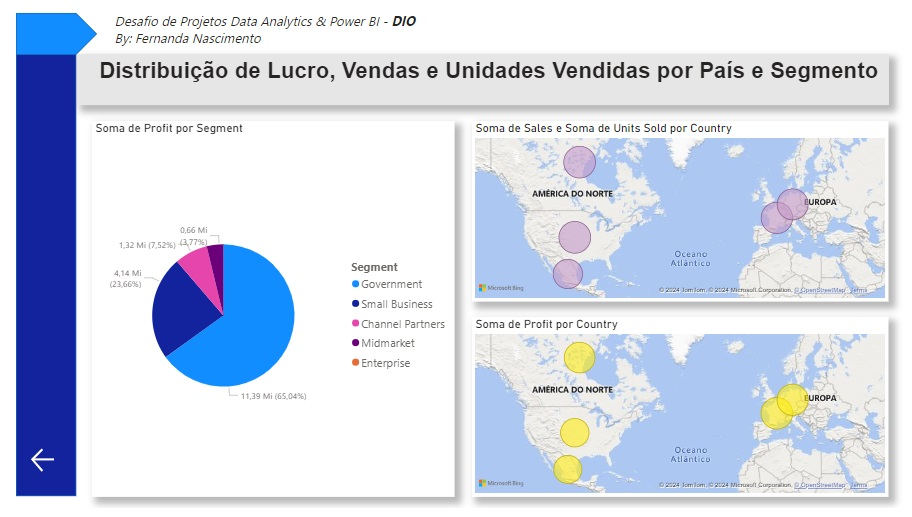

Layout of this report page (visuals, bound fields, positions):
{"tool":"powerbi","page":{"name":"Página 3","canvas":[1280,720],"ordinal":2},"visuals":[{"type":"shape","box":[12.3,71.9,86,631.6],"z":0},{"type":"shape","box":[12.3,12.3,115.8,59.6],"z":1000},{"type":"actionButton","box":[30,630,50,43.3],"z":2000},{"type":"textbox","box":[148.3,5,748.3,73.3],"z":3000},{"type":"map","fields":{"Category":["financials.Country"],"Size":["Sum(financials. Sales)"]},"box":[665,166.7,595,258.3],"z":4000},{"type":"map","fields":{"Category":["financials.Country"],"Size":["Sum(financials.Profit)"]},"box":[665,446.7,595,256.7],"z":5000},{"type":"pieChart","fields":{"Y":["Sum(financials.Profit)"],"Category":["financials.Segment"]},"box":[121.7,166.7,518.3,536.7],"z":6000},{"type":"textbox","box":[100,71.7,1160,73.3],"z":7000}]}

Visuals, with their boxes in screenshot pixels (x1, y1, x2, y2), scaled from the page's 1280x720 canvas onto the 912x517 screenshot:
shape: 9, 52, 70, 505
shape: 9, 9, 91, 52
actionButton: 21, 452, 57, 483
textbox: 106, 4, 639, 56
map - financials.Country x Sum(financials. Sales): 474, 120, 898, 305
map - financials.Country x Sum(financials.Profit): 474, 321, 898, 505
pieChart - Sum(financials.Profit) x financials.Segment: 87, 120, 456, 505
textbox: 71, 51, 898, 104
